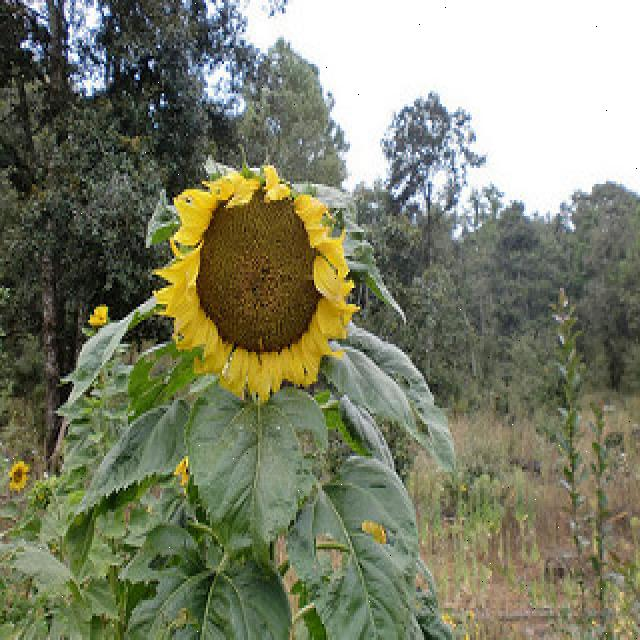Bloomed: (150, 157, 358, 403)
